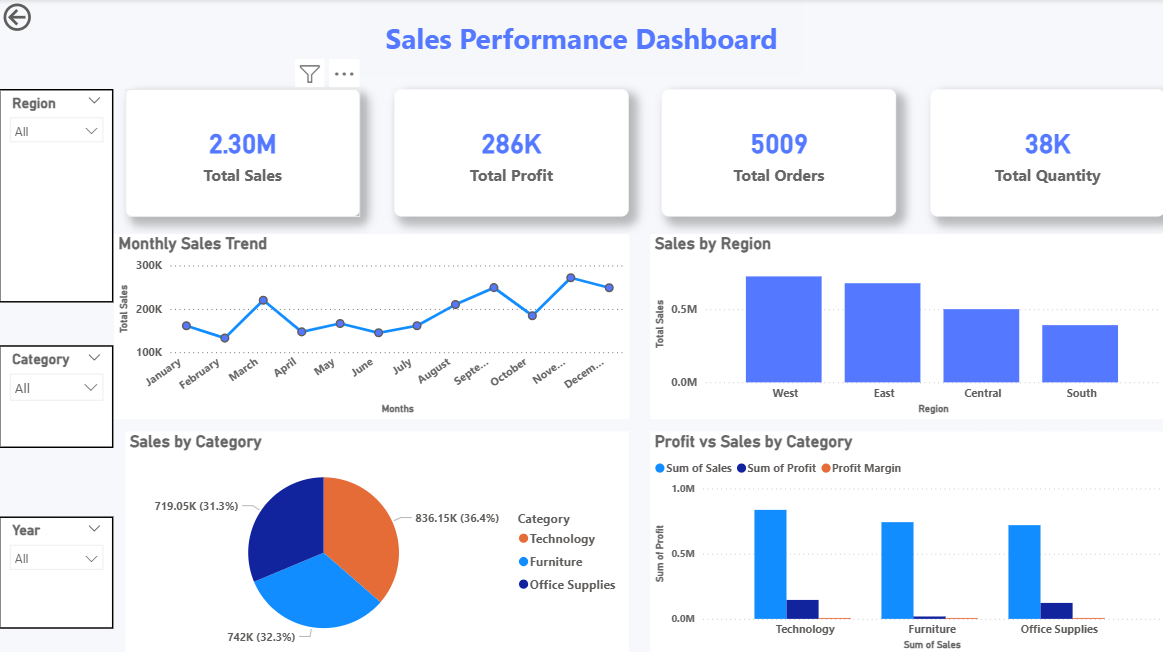

Layout of this report page (visuals, bound fields, positions):
{"tool":"powerbi","page":{"name":"Sales Dashboard","canvas":[1280,720],"ordinal":0},"visuals":[{"type":"shape","box":[396.6,0,485.8,85.1],"z":0},{"type":"card","fields":{"Values":["Sample - Superstore.Total Orders"]},"box":[727.7,98.8,258,140],"z":1000},{"type":"card","fields":{"Values":["Sample - Superstore.Total Quantity"]},"box":[1022,98.8,258,140],"z":2000},{"type":"card","fields":{"Values":["Sample - Superstore.Total Sales"]},"box":[138.6,98.8,258,140],"z":3000},{"type":"card","fields":{"Values":["Sample - Superstore.Total Profit"]},"box":[433.2,98.8,258,140],"z":4000},{"type":"lineChart","title":"Monthly Sales Trend","fields":{"Y":["Sum(Sample - Superstore.Sales)"],"Category":["Sample - Superstore.Order Date.Variation.Date Hierarchy.Month"]},"box":[125.7,258.6,565.7,202.9],"z":5000},{"type":"clusteredColumnChart","title":" Sales by Region","fields":{"Category":["Sample - Superstore.Region"],"Y":["Sum(Sample - Superstore.Sales)"]},"box":[714.3,258.6,565.7,202.9],"z":6000},{"type":"pieChart","title":"Sales by Category","fields":{"Category":["Sample - Superstore.Category"],"Y":["Sum(Sample - Superstore.Sales)"]},"box":[138.6,474.3,552.9,245.7],"z":7000},{"type":"lineClusteredColumnComboChart","title":"Profit vs Sales by Category","fields":{"Y":["Sum(Sample - Superstore.Sales)","Sum(Sample - Superstore.Profit)","Sample - Superstore.Profit Margin"],"Category":["Sample - Superstore.Category"]},"box":[714.3,474.3,565.7,245.7],"z":8000},{"type":"slicer","fields":{"Values":["Sample - Superstore.Region"]},"box":[0,98.6,125.7,234.3],"z":9000},{"type":"slicer","fields":{"Values":["Sample - Superstore.Category"]},"box":[0,380,125.7,112.9],"z":10000},{"type":"slicer","fields":{"Values":["Sample - Superstore.Order Date.Variation.Date Hierarchy.Year"]},"box":[0,568.6,125.7,122.9],"z":11000},{"type":"actionButton","box":[0,0,100,40],"z":12000}]}

Visuals, with their boxes in screenshot pixels (x1, y1, x2, y2), scaled from the page's 1280x720 canvas onto the 1163x652 screenshot:
shape: region(360, 0, 802, 77)
card - Sample - Superstore.Total Orders: region(661, 89, 896, 216)
card - Sample - Superstore.Total Quantity: region(929, 89, 1162, 216)
card - Sample - Superstore.Total Sales: region(126, 89, 360, 216)
card - Sample - Superstore.Total Profit: region(394, 89, 628, 216)
"Monthly Sales Trend" lineChart: region(114, 234, 628, 418)
" Sales by Region" clusteredColumnChart: region(649, 234, 1162, 418)
"Sales by Category" pieChart: region(126, 430, 628, 651)
"Profit vs Sales by Category" lineClusteredColumnComboChart: region(649, 430, 1162, 651)
slicer - Sample - Superstore.Region: region(0, 89, 114, 301)
slicer - Sample - Superstore.Category: region(0, 344, 114, 446)
slicer - Sample - Superstore.Order Date.Variation.Date Hierarchy.Year: region(0, 515, 114, 626)
actionButton: region(0, 0, 91, 36)
